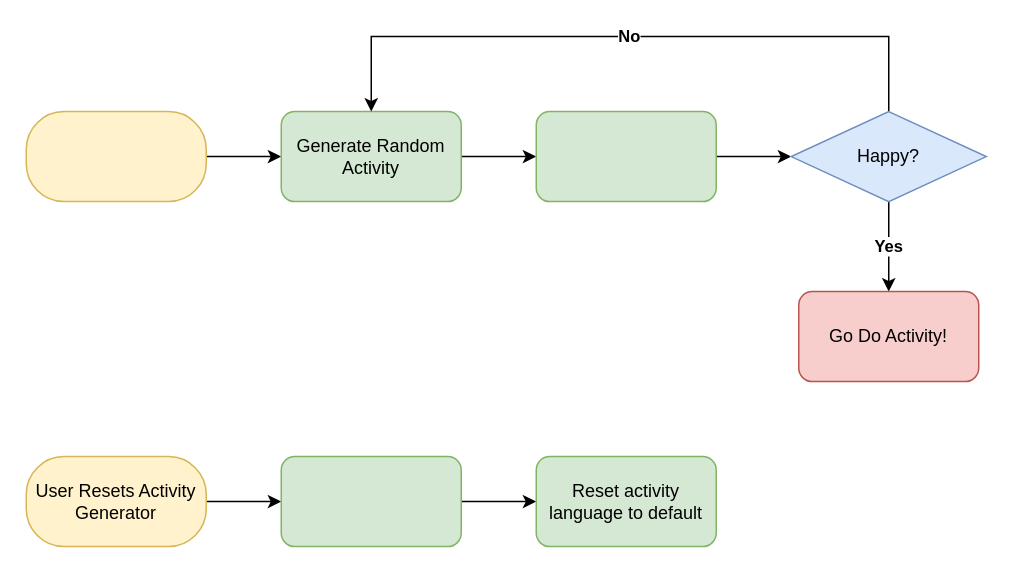
Image size: 1013x573. Some labels were removed from this diagram. Each missing label, with the box of its shape:
Display Activity: (535, 110, 716, 202)
Reset image to default: (280, 455, 461, 547)
User clicks Generate Activity: (25, 110, 206, 202)
